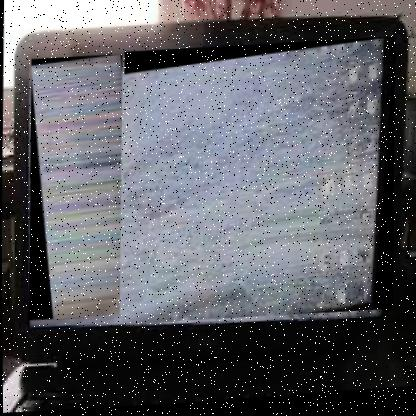lines: (118, 38, 396, 332), (25, 54, 123, 323)
